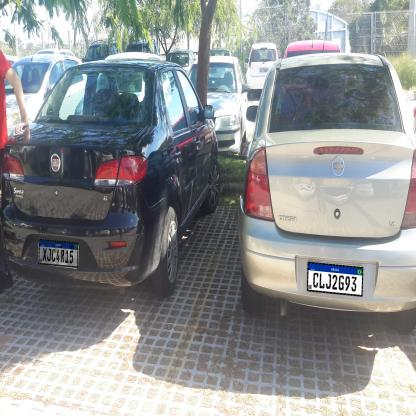PlacaM: (307, 262, 363, 296), (38, 239, 78, 268)
